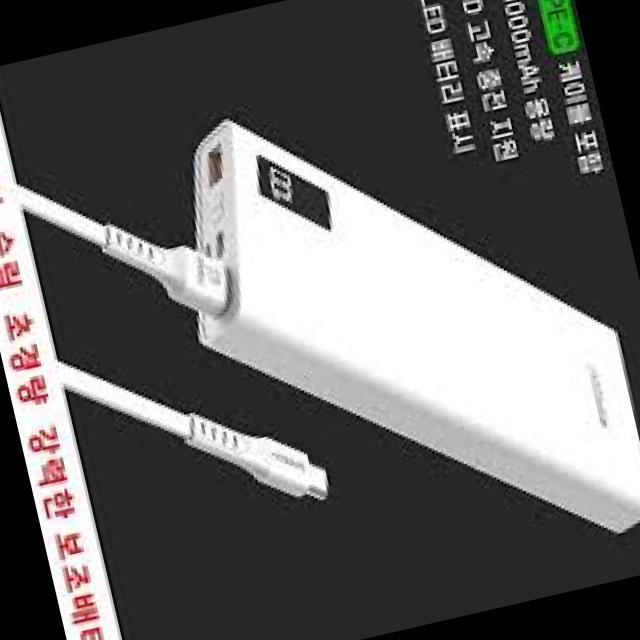power_bank: (149, 36, 640, 621)
